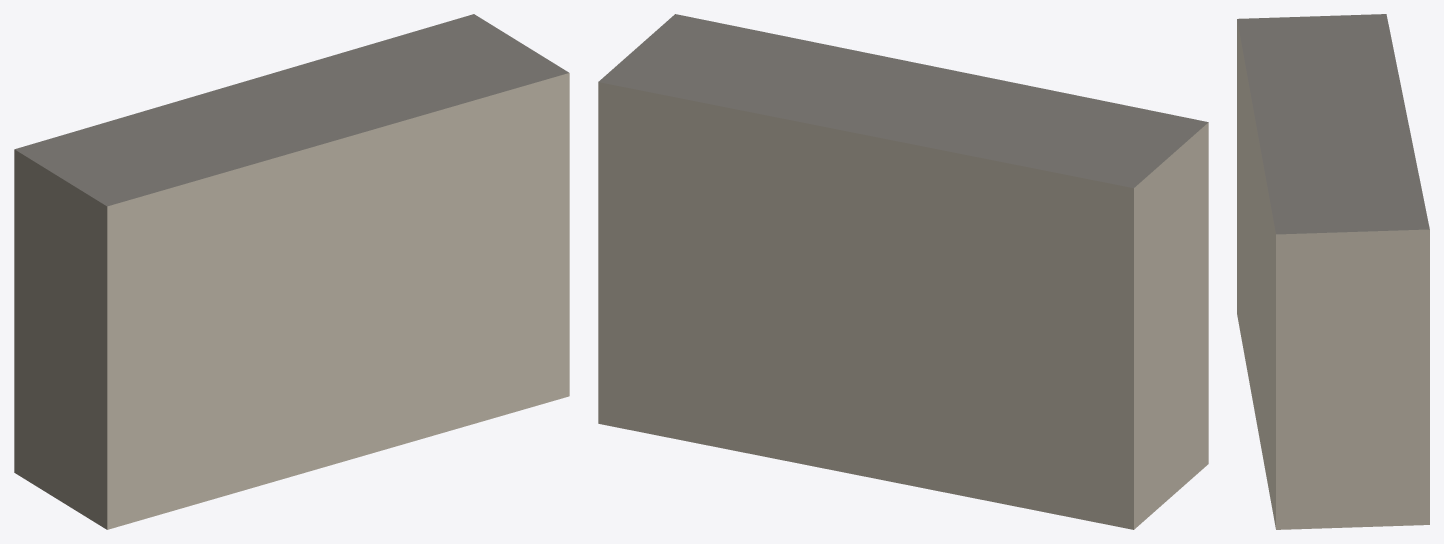
The picture shows the model from 3 angles, left to right: view 1: azimuth 30°, elevation 25°; view 2: azimuth 150°, elevation 25°; view 3: azimuth 270°, elevation 25°; orthographic projection. The views are drawn at different scales.
Parts seen in each view (by area): view 1: HP-w858824307; view 2: HP-w858824307; view 3: HP-w858824307.
Part boxes in pixels (box(x1,y1,x2,y2)): HP-w858824307: box(14, 14, 569, 529); HP-w858824307: box(598, 14, 1208, 529); HP-w858824307: box(1237, 14, 1429, 529).
Size of the model in its own units: 28.8 by 18 by 10.64.
